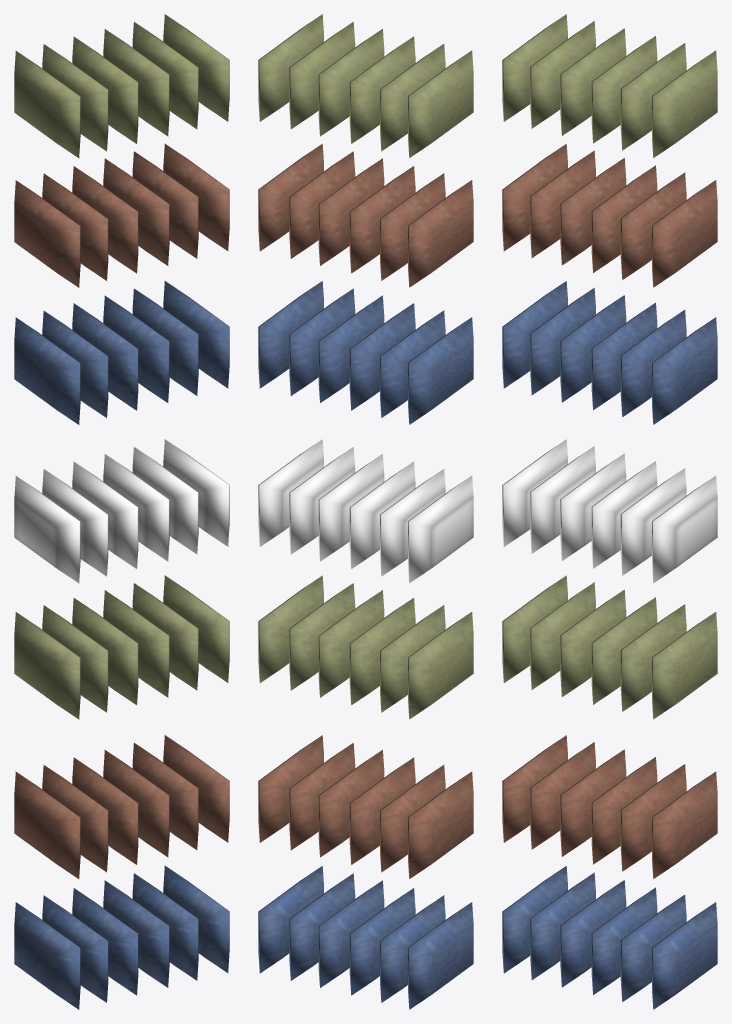
File: Pillows'.fbx
The picture shows the model from 3 angles, left to right: view 1: azimuth 30°, elevation 25°; view 2: azimuth 150°, elevation 25°; view 3: azimuth 330°, elevation 25°; orthographic projection.
Parts seen in each view (by area): view 1: Pillows; view 2: Pillows; view 3: Pillows.
Boxes of the visible parts, x1,y1,x2,y2 form: Pillows: (14,14,229,1009); Pillows: (258,14,473,1009); Pillows: (502,14,717,1009).
Bounding box in the file's own units: 1.52 × 7.63 × 0.9578.
